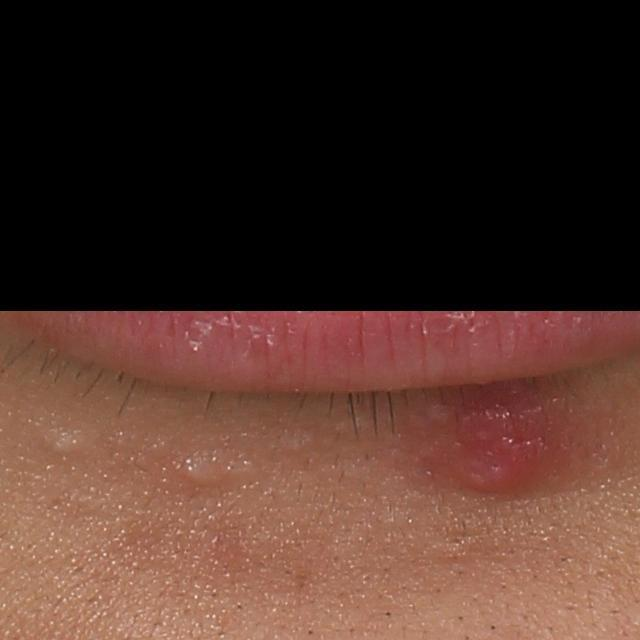hypertrophic_scar: (173, 452, 222, 494), (36, 423, 96, 456)
papule: (444, 389, 558, 504)
